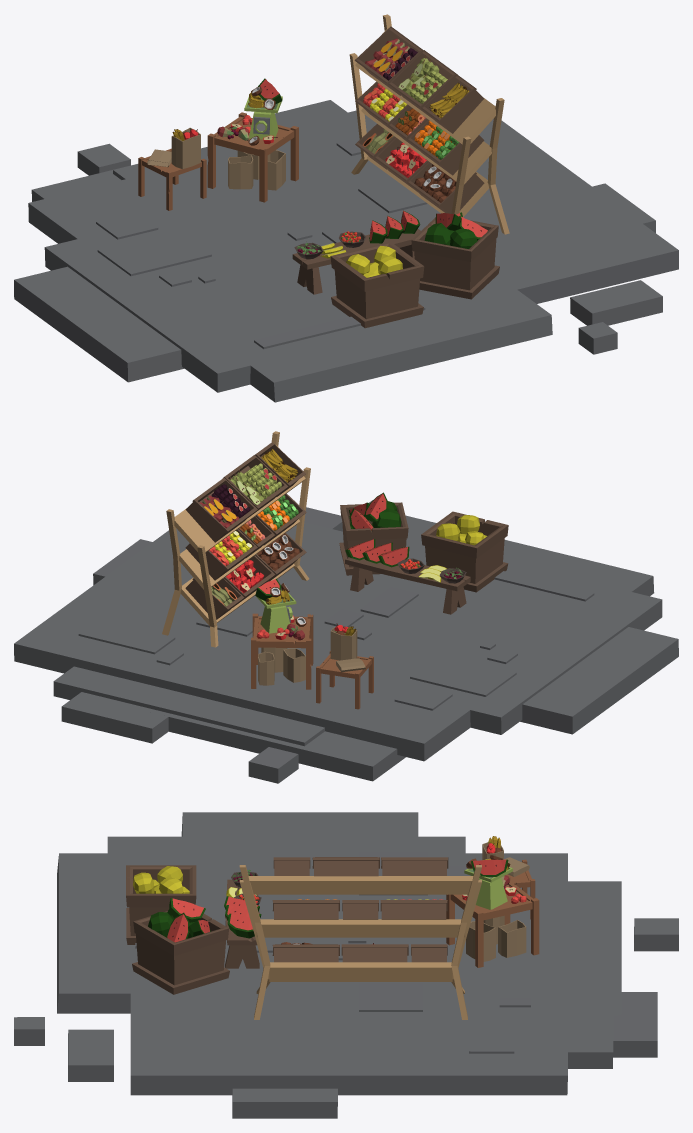
File: FruitStand.fbx
3 views of the same model, one above another, from view 1: azimuth 30°, elevation 25°; view 2: azimuth 150°, elevation 25°; view 3: azimuth 270°, elevation 25° (orthographic). The views are drawn at different scales.
Visible parts, largest first — view 1: FruitStand; view 2: FruitStand; view 3: FruitStand.
Part boxes in pixels (left/top/right/bottom): FruitStand: left=14, top=14, right=678, bottom=402; FruitStand: left=14, top=431, right=678, bottom=783; FruitStand: left=14, top=812, right=678, bottom=1118.
Bounding box in the file's own units: 555 × 167 × 559.
Materials: 1 (1 with a texture image).
